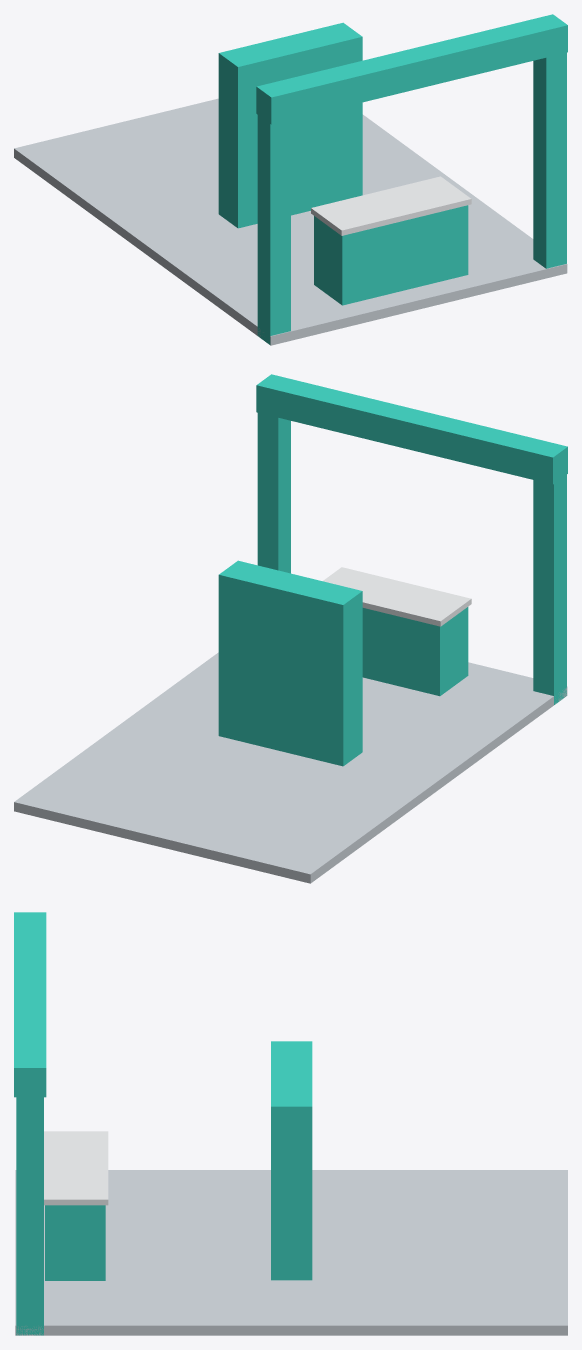
The picture shows the model from 3 angles, top to bottom: view 1: azimuth 30°, elevation 25°; view 2: azimuth 150°, elevation 25°; view 3: azimuth 270°, elevation 25°; orthographic projection. The views are drawn at different scales.
Parts seen in each view (by area): view 1: Exhibition Booth Concept; view 2: Exhibition Booth Concept; view 3: Exhibition Booth Concept.
Part boxes in pixels (x1,y1,x2,y2): Exhibition Booth Concept: (14, 14, 567, 345); Exhibition Booth Concept: (14, 374, 567, 883); Exhibition Booth Concept: (14, 912, 567, 1335).
Size of the model in its own units: 4 by 3.2 by 6.02.
